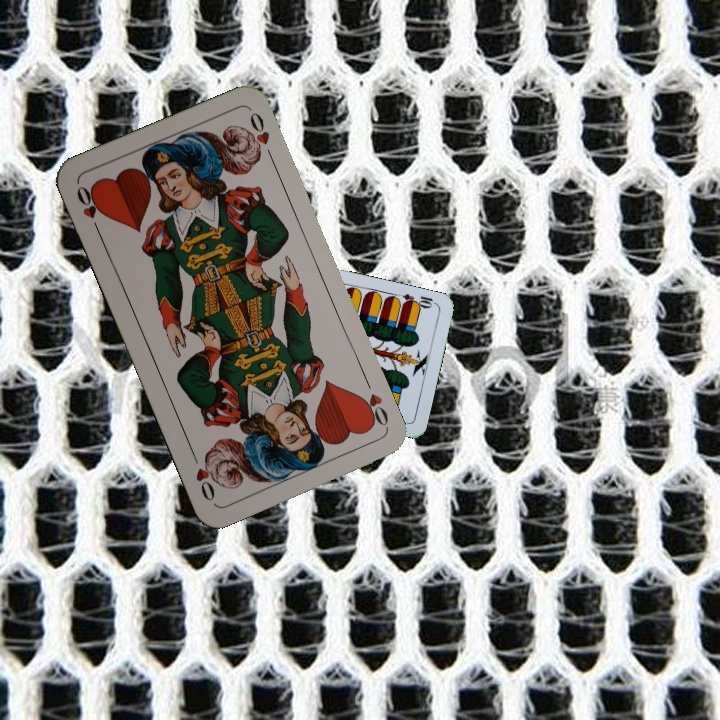E10: (399, 290, 439, 311)
HO: (355, 374, 391, 430), (72, 181, 106, 237)
